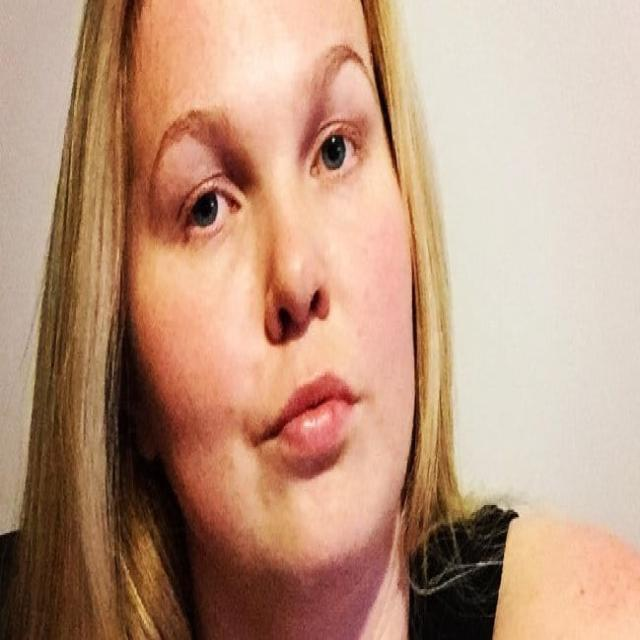mobile_phonerotation: (2, 2, 635, 636)
